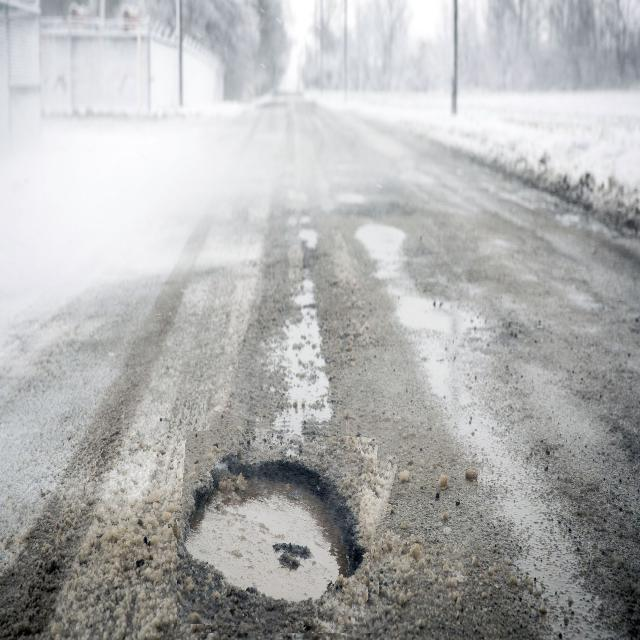Pothole: (177, 420, 389, 633)
